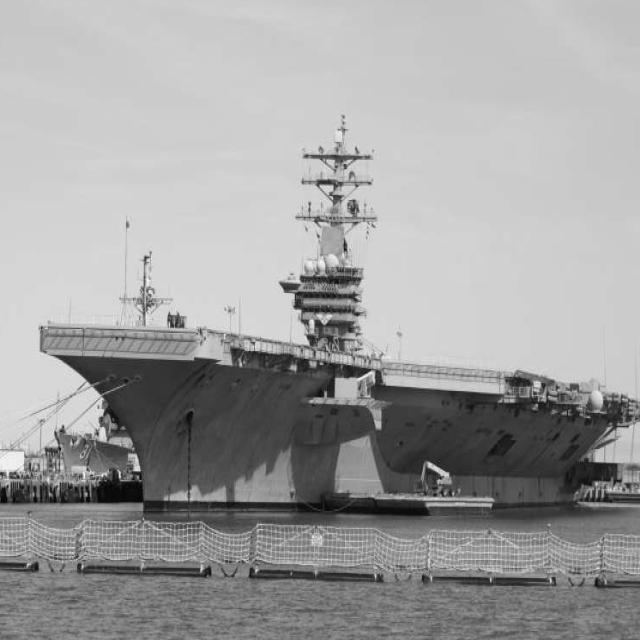Portanaves: (34, 94, 640, 520)
